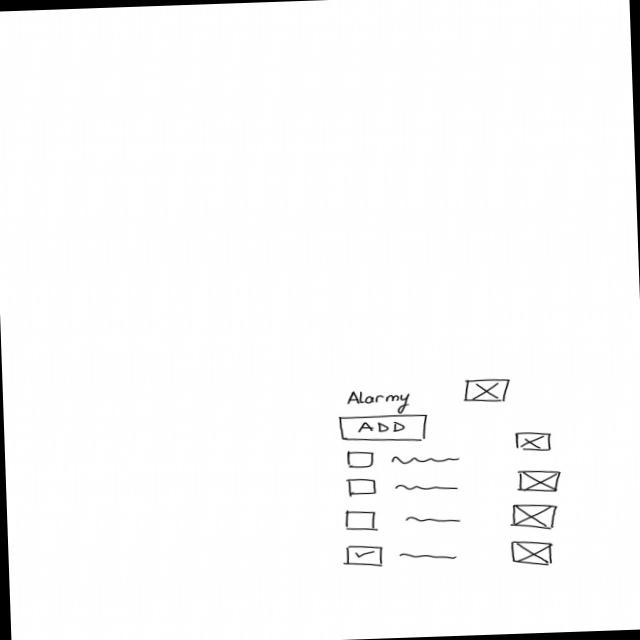button: (340, 414, 431, 445)
checkbox: (343, 507, 462, 536), (344, 542, 459, 570), (347, 475, 460, 499), (347, 448, 463, 471)
image: (512, 502, 560, 532), (462, 379, 512, 405), (512, 540, 556, 568), (517, 468, 562, 494), (514, 430, 553, 454)
label: (346, 389, 413, 417)
